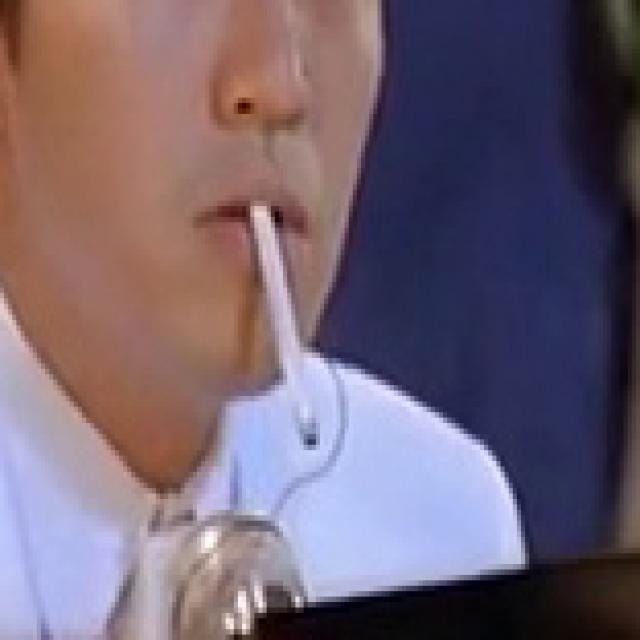smoking: (247, 202, 322, 450)
